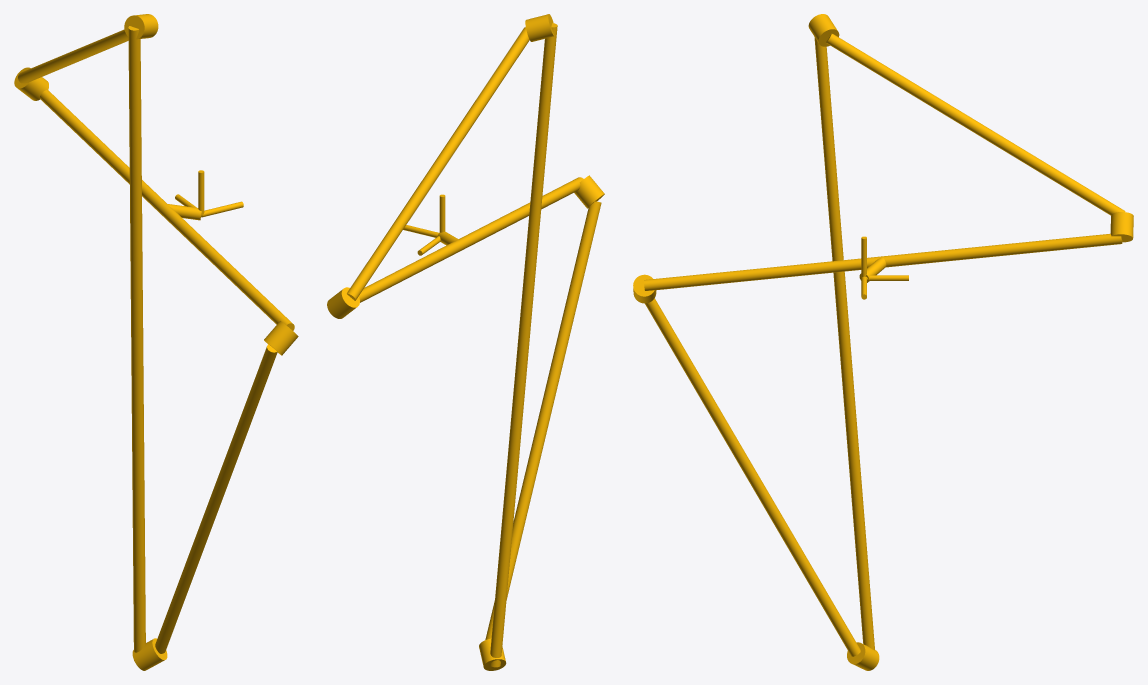
The model's file is mechanism.glb.
3 views of the same model, side by side, from view 1: azimuth 30°, elevation 25°; view 2: azimuth 150°, elevation 25°; view 3: azimuth 270°, elevation 25° (orthographic). The views are drawn at different scales.
Parts seen in each view (by area): view 1: =>[0:1:1:3], =>[0:1:1:5], =>[0:1:1:4], =>[0:1:1:6]; view 2: =>[0:1:1:3], =>[0:1:1:4], =>[0:1:1:5], =>[0:1:1:6]; view 3: =>[0:1:1:3], =>[0:1:1:5], =>[0:1:1:4], =>[0:1:1:6].
Boxes of the visible parts, x1,y1,x2,y2 form: =>[0:1:1:3]: [124, 14, 167, 670]; =>[0:1:1:5]: [14, 67, 298, 355]; =>[0:1:1:4]: [133, 321, 297, 659]; =>[0:1:1:6]: [14, 15, 155, 100]; =>[0:1:1:3]: [479, 14, 557, 670]; =>[0:1:1:4]: [483, 175, 604, 670]; =>[0:1:1:5]: [327, 176, 604, 318]; =>[0:1:1:6]: [327, 14, 553, 318]; =>[0:1:1:3]: [808, 14, 879, 670]; =>[0:1:1:5]: [633, 212, 1133, 303]; =>[0:1:1:4]: [633, 274, 871, 669]; =>[0:1:1:6]: [808, 14, 1133, 242].
Size of the model in its own units: 0.1311 by 0.6207 by 0.4397.
